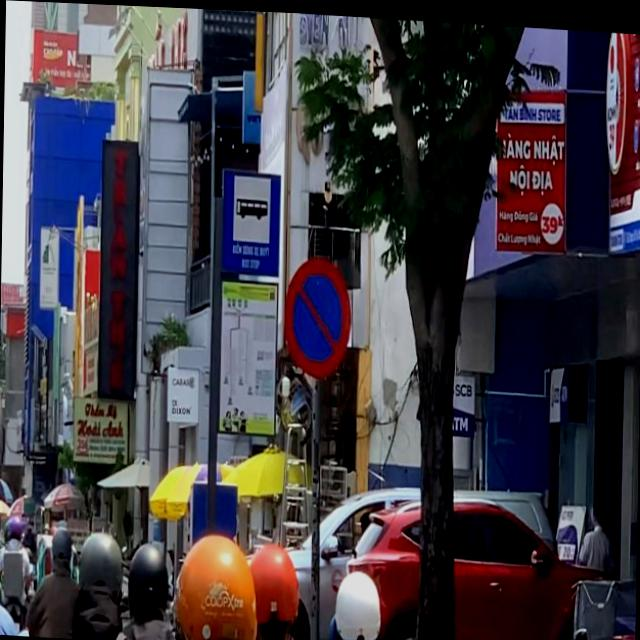Ben xe buyt: (227, 168, 277, 272)
Cam do xe: (283, 251, 353, 377)
